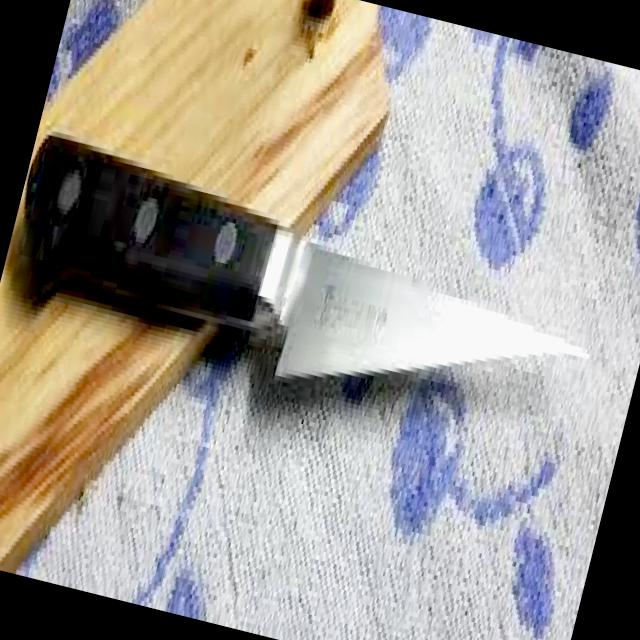knife: (0, 75, 626, 462)
